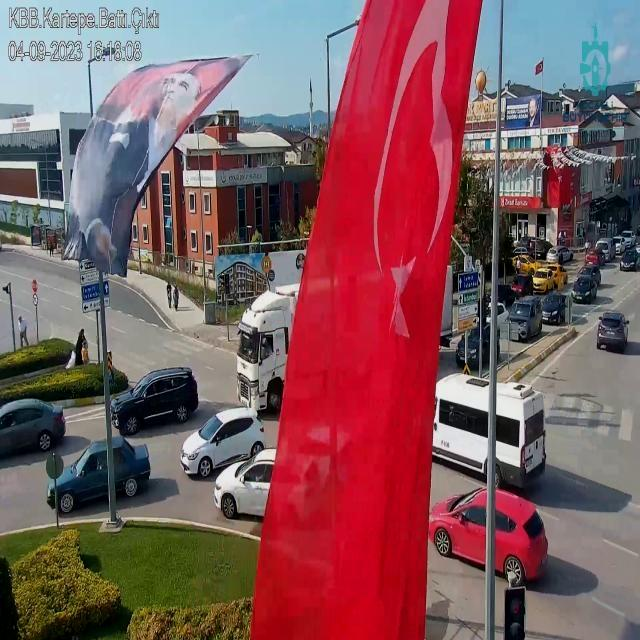Car: (429, 486, 549, 588), (47, 435, 152, 514), (110, 366, 199, 434), (182, 406, 266, 478), (214, 446, 276, 520), (0, 398, 65, 454), (456, 322, 501, 370), (596, 310, 630, 352), (542, 294, 570, 325), (572, 278, 598, 305), (530, 268, 556, 294), (510, 273, 534, 297), (546, 246, 574, 264), (618, 250, 640, 272), (583, 246, 606, 266), (620, 230, 637, 248), (612, 235, 627, 254)
Van: (432, 372, 548, 488), (235, 281, 308, 414)
